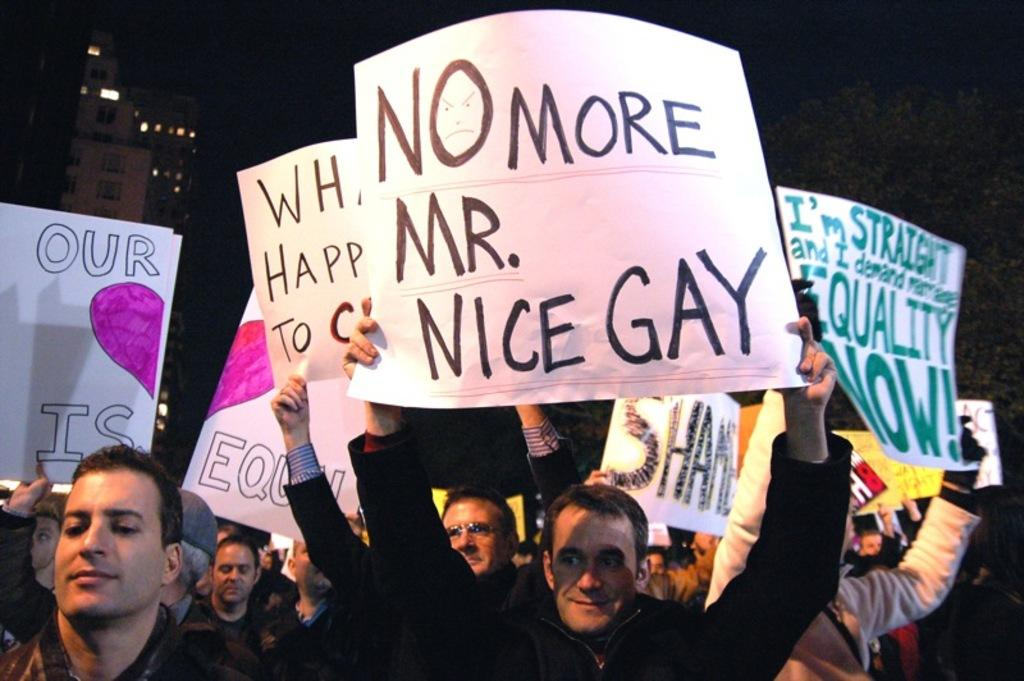Sem Máscara: (58, 465, 165, 624), (548, 510, 639, 631), (445, 492, 509, 577), (210, 540, 260, 602)
